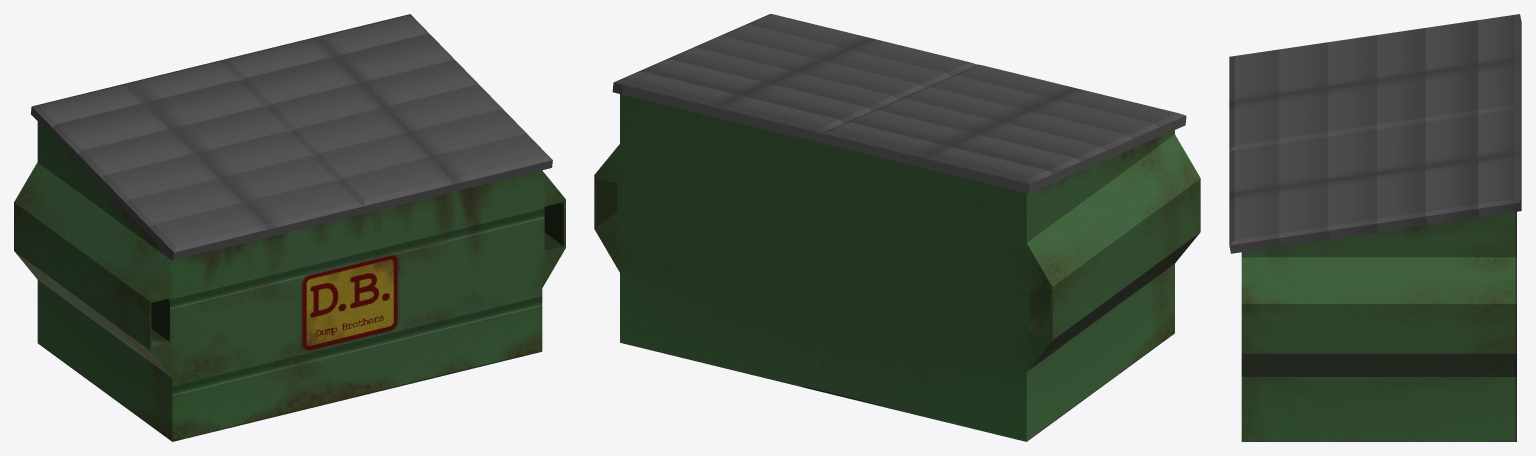
The model's file is dumpster.fbx.
3 views of the same model, side by side, from view 1: azimuth 30°, elevation 25°; view 2: azimuth 150°, elevation 25°; view 3: azimuth 270°, elevation 25° (orthographic). The views are drawn at different scales.
Visible parts, largest first — view 1: Body, Lid; view 2: Body, Lid; view 3: Body, Lid.
Part boxes in pixels (x1,y1,x2,y2): Body: (14, 121, 565, 441); Lid: (31, 14, 552, 260); Body: (594, 94, 1200, 441); Lid: (612, 14, 1186, 193); Body: (1241, 212, 1516, 441); Lid: (1229, 14, 1521, 253).
Size of the model in its own units: 891 by 487 by 531.
